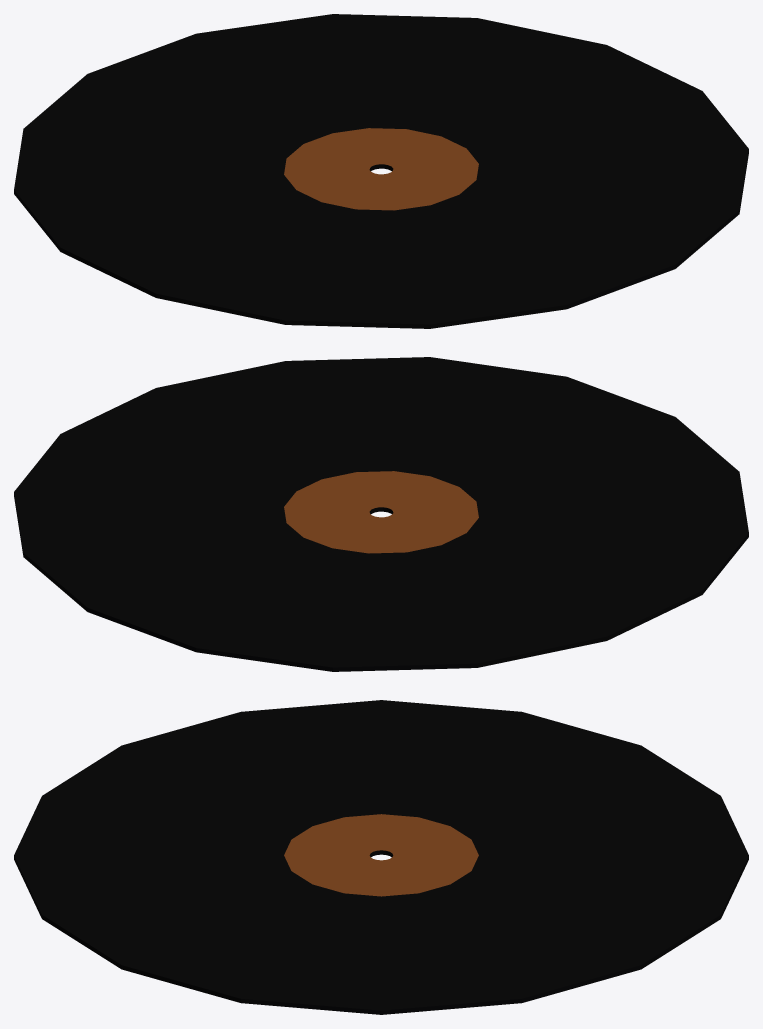
The model's file is VinylRecord.obj.
3 renders of one model, top to bottom at view 1: azimuth 30°, elevation 25°; view 2: azimuth 150°, elevation 25°; view 3: azimuth 270°, elevation 25°, orthographic.
Visible parts, largest first — view 1: VinalRecord_Cylinder.002; view 2: VinalRecord_Cylinder.002; view 3: VinalRecord_Cylinder.002.
Part boxes in pixels (box(x1,y1,x2,y2)): VinalRecord_Cylinder.002: box(14, 14, 748, 328); VinalRecord_Cylinder.002: box(14, 357, 748, 671); VinalRecord_Cylinder.002: box(14, 700, 748, 1014).
Size of the model in its own units: 0.241 by 0.00157 by 0.241.
Materials: 1 (1 with a texture image).
